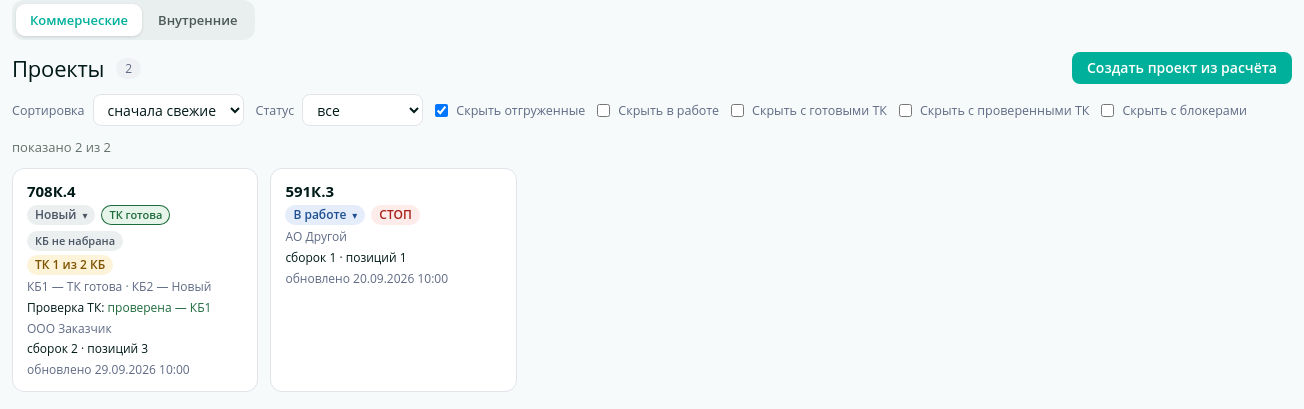
Scenario: ProjectsPage › lists project tiles with facts, filters by status and keeps the choice
Check: the text "708К.4" is shown, box left=27, top=181, right=76, bottom=201
Check: the text "проверена — КБ1" is shown, box left=108, top=299, right=211, bottom=316
Select "В работе · 1" in the dropdown labelled "Статус": (363, 110) left=302, top=94, right=423, bottom=126
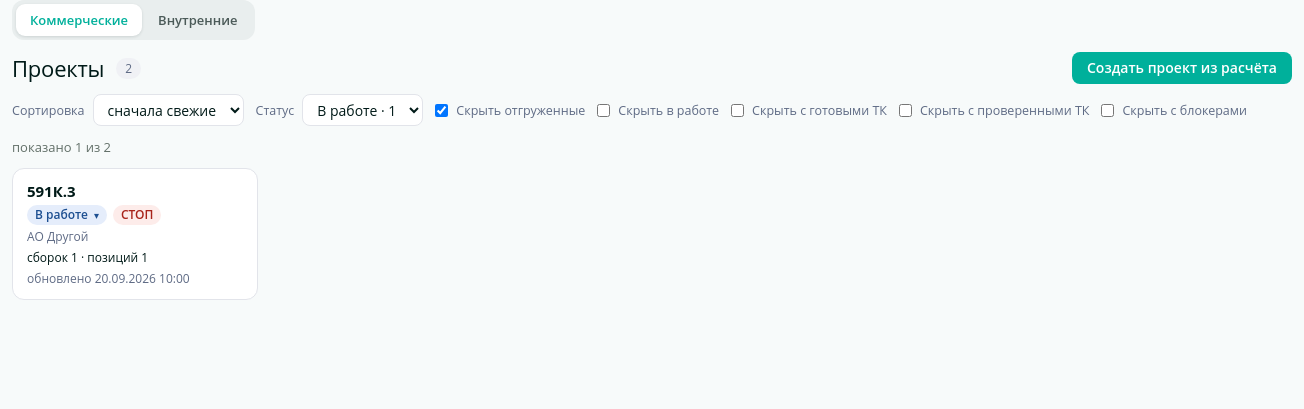
Check: the button "708К.4" is gone
Check: the text "показано 1 из 2" is shown, box left=12, top=138, right=111, bottom=156
